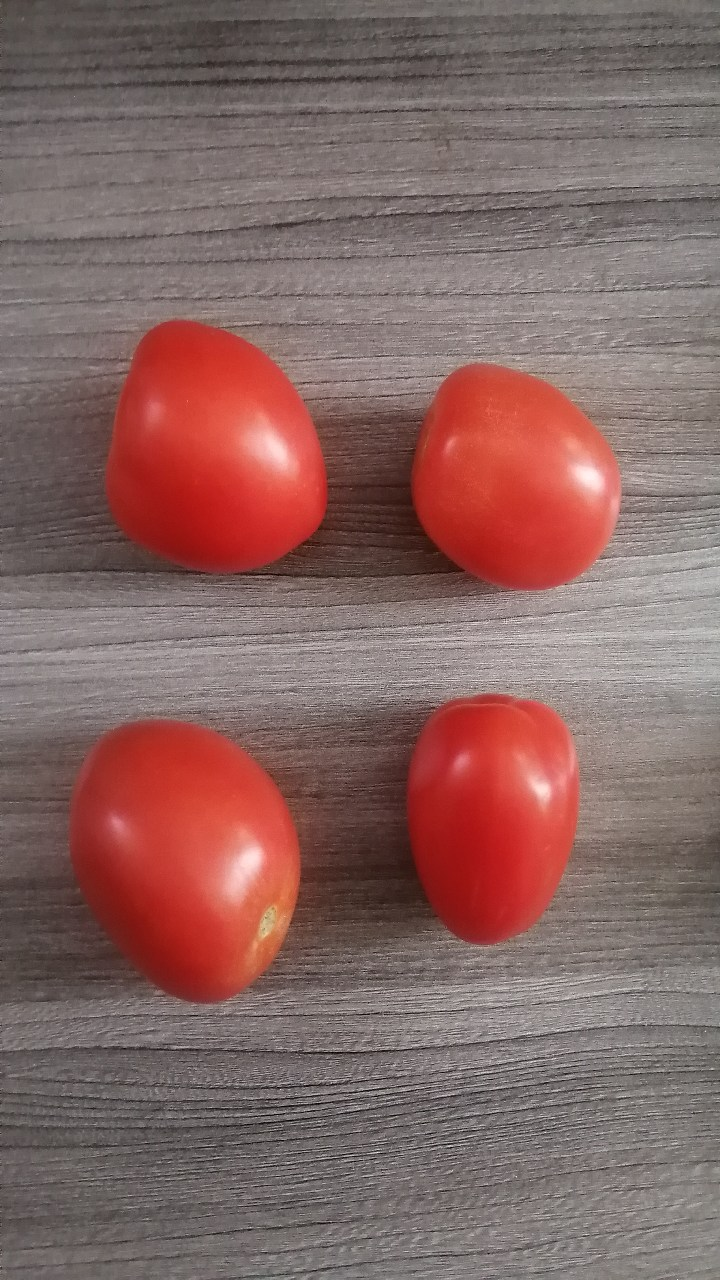tomateRojo: (49, 692, 315, 1020), (89, 303, 348, 586), (394, 339, 640, 611), (372, 680, 600, 962)
